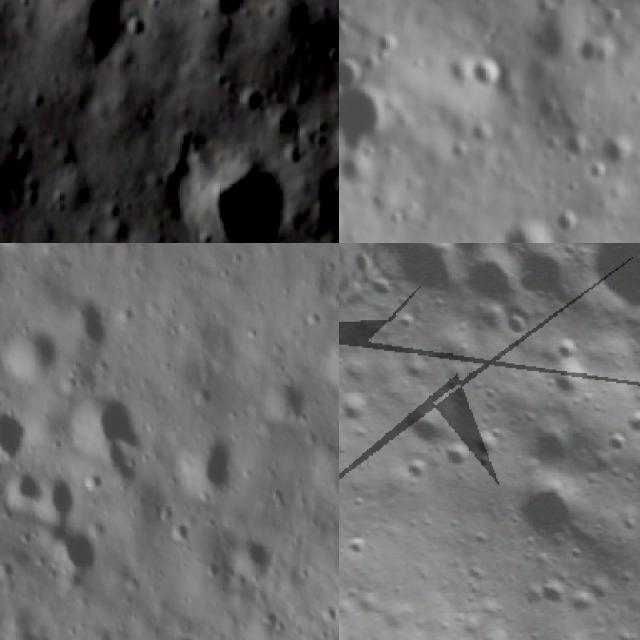crater: (174, 156, 288, 243), (503, 458, 600, 556), (386, 243, 481, 313), (567, 243, 640, 334), (339, 72, 407, 161), (64, 390, 138, 471), (504, 243, 587, 314), (454, 243, 534, 316), (517, 402, 589, 473), (398, 389, 464, 453), (0, 318, 63, 382), (57, 284, 119, 349), (181, 426, 236, 498), (43, 520, 103, 578), (544, 351, 602, 406), (466, 416, 519, 470), (224, 525, 279, 576), (560, 572, 612, 625), (257, 371, 303, 423), (464, 50, 510, 100), (35, 470, 79, 521), (497, 209, 560, 243), (570, 31, 622, 71), (529, 562, 574, 608), (339, 382, 381, 431), (2, 464, 43, 514), (437, 430, 480, 473), (0, 401, 27, 460), (339, 51, 373, 96), (558, 125, 594, 166), (366, 27, 403, 66), (194, 0, 259, 22), (598, 135, 634, 170), (551, 330, 586, 366), (548, 210, 589, 240), (318, 328, 339, 385), (581, 158, 616, 190), (164, 514, 196, 544), (194, 553, 218, 581), (339, 3, 354, 43), (0, 551, 16, 579), (165, 630, 199, 640)
